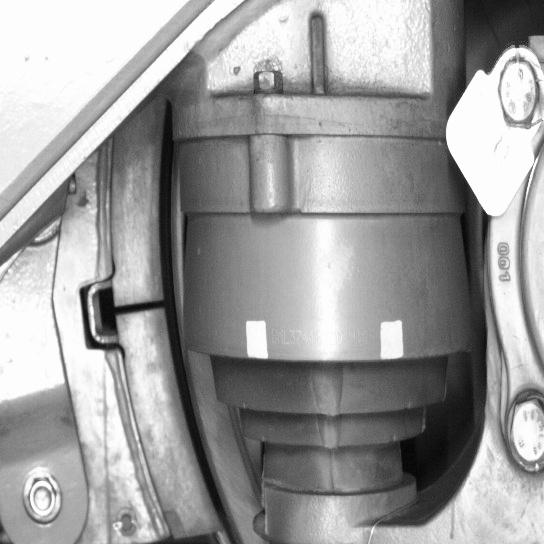KnifeSwitch: (107, 135, 247, 541)
